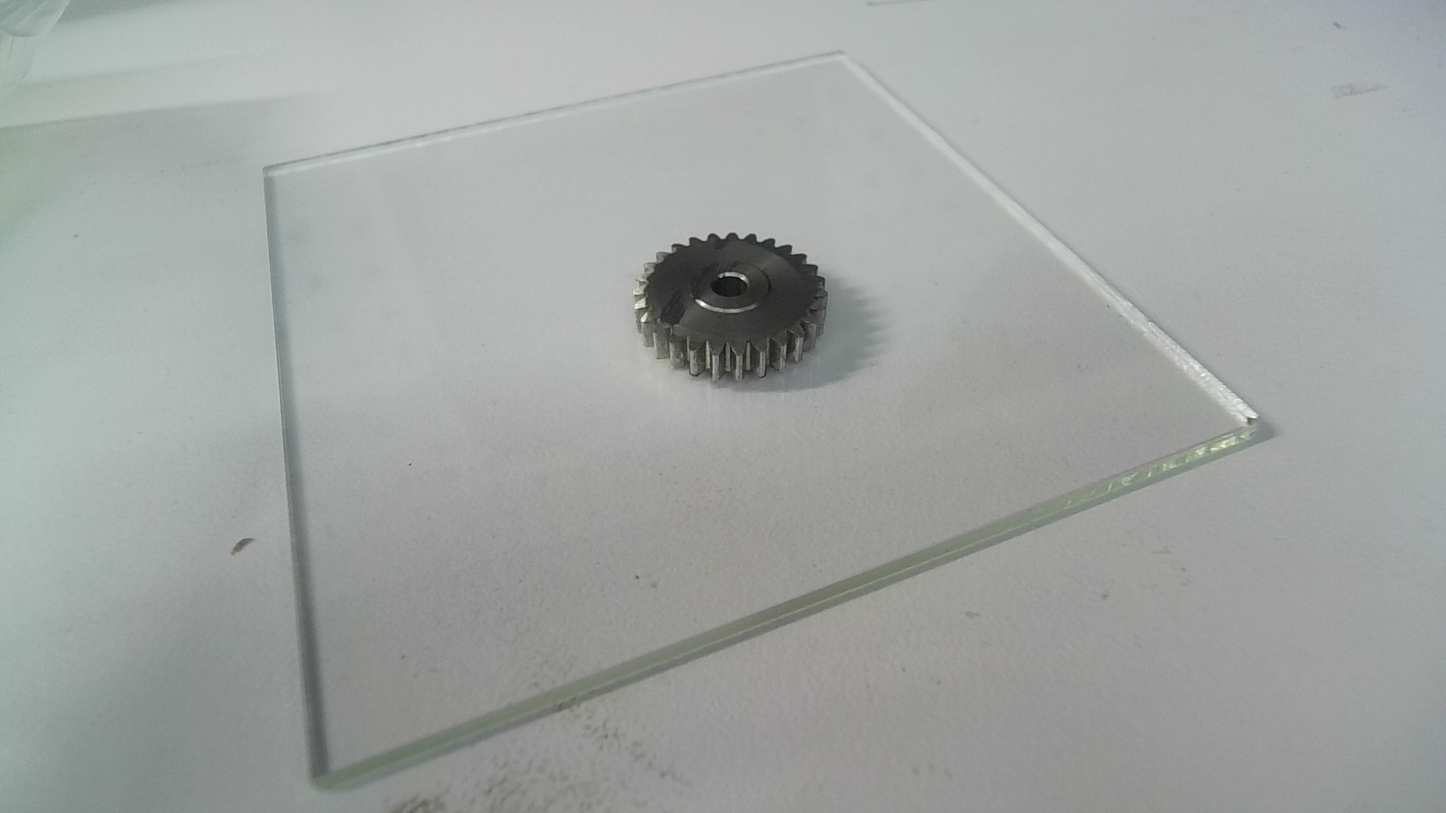gear: (630, 231, 834, 391)
